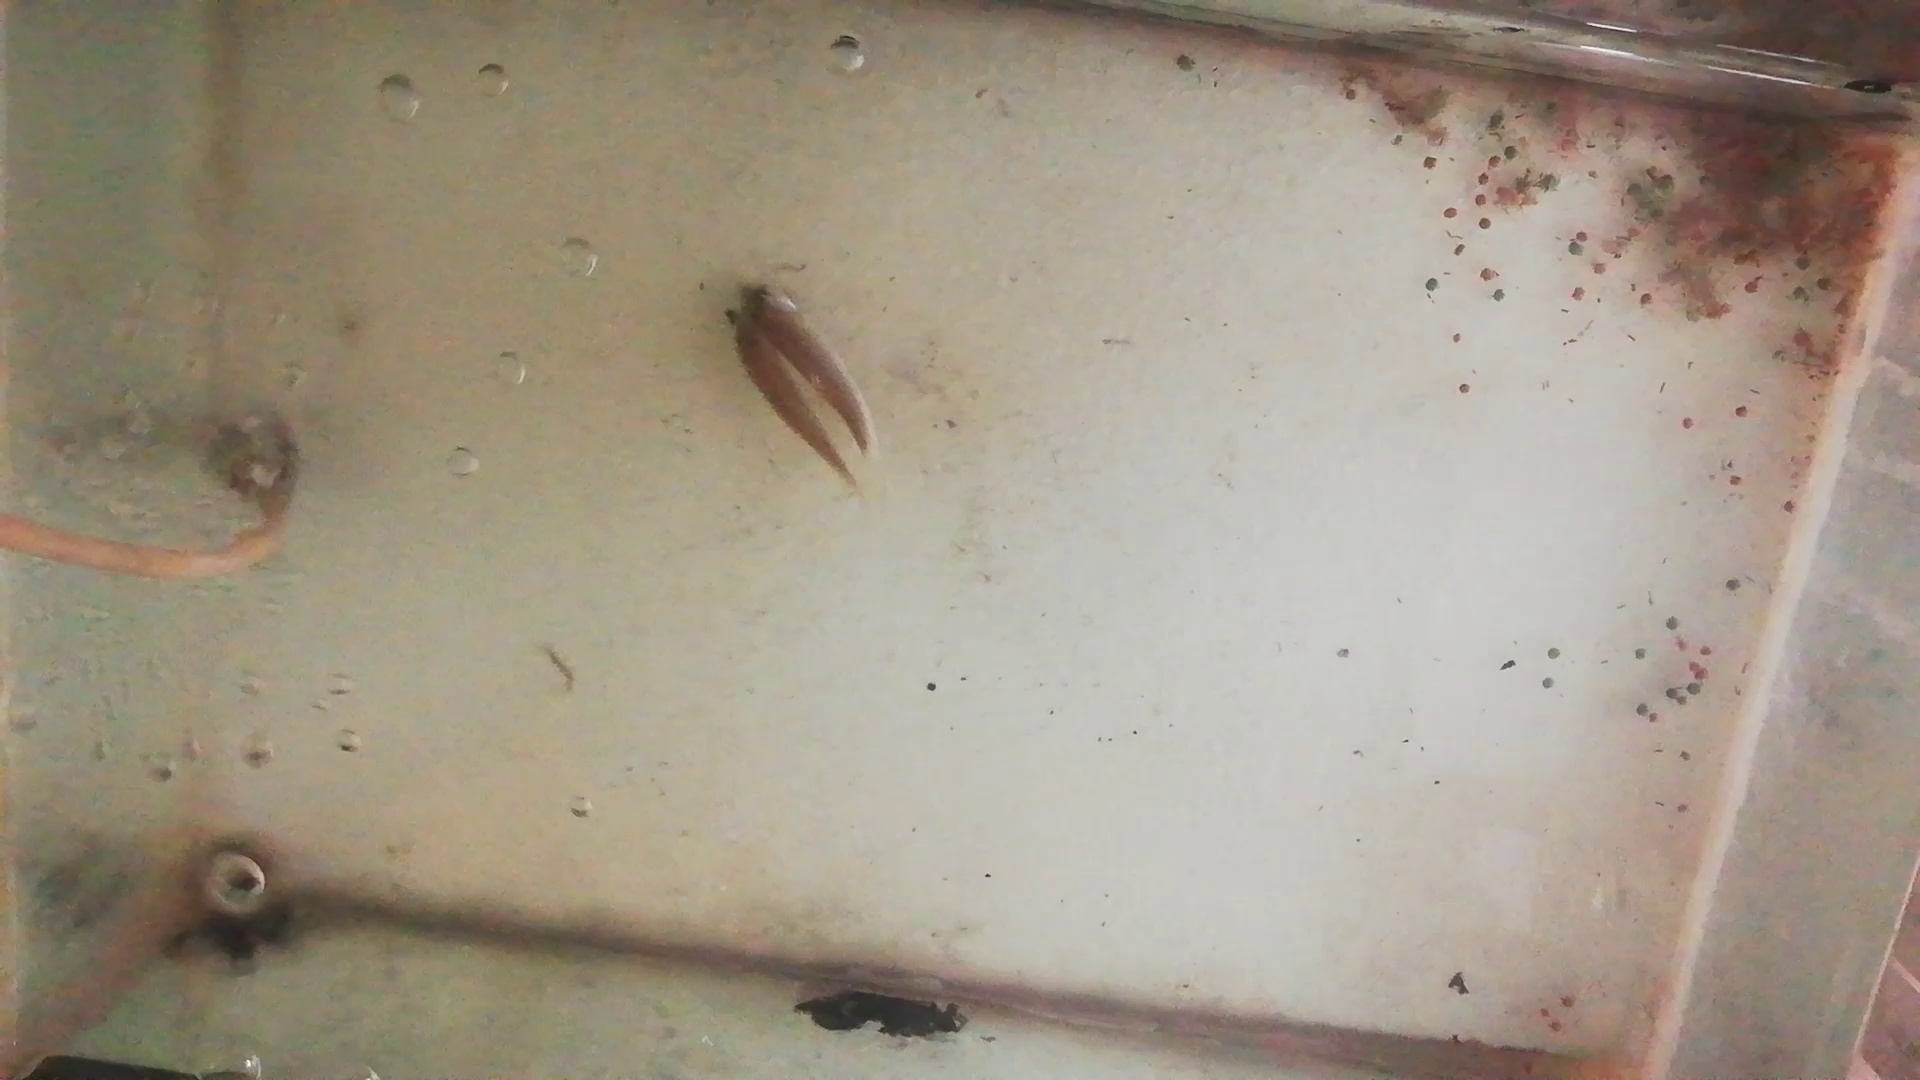fish: (742, 276, 878, 444), (725, 306, 851, 483)
